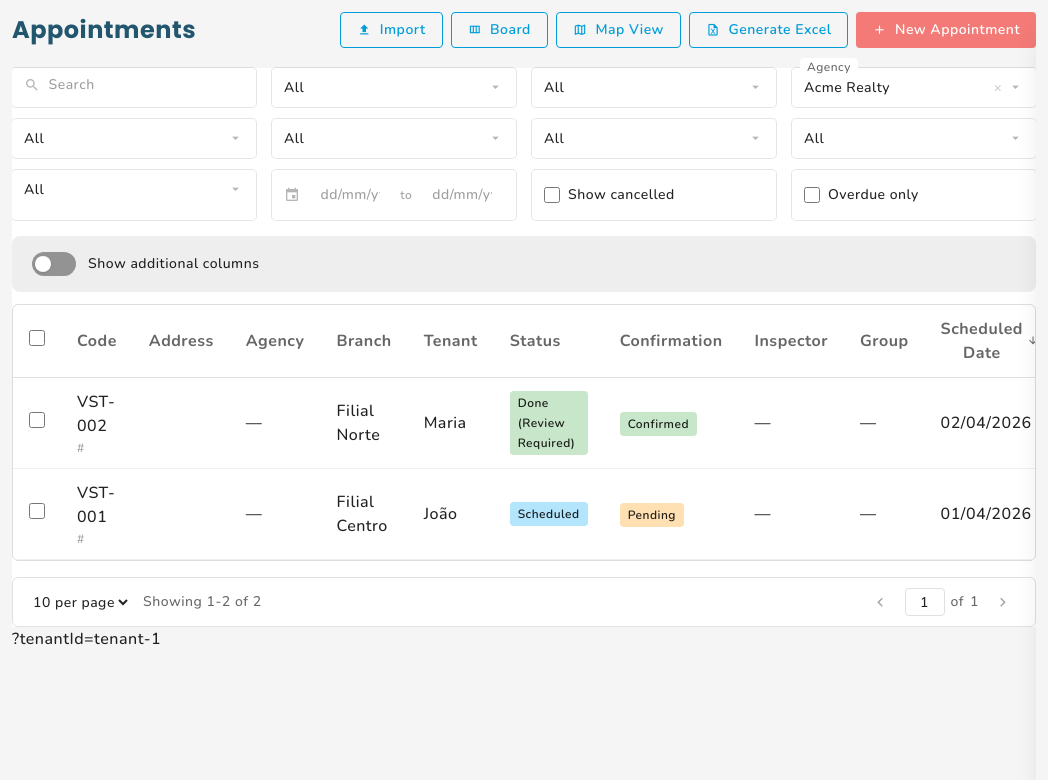
Scenario: AppointmentListPage › agency and inspector scoping › loads the selected agency branches instead of deriving them from the rows
The width and height of the screenshot is (1048, 780).
Click the button with aria-label "Branch" at point(134, 138), box 12,119 -> 256,158
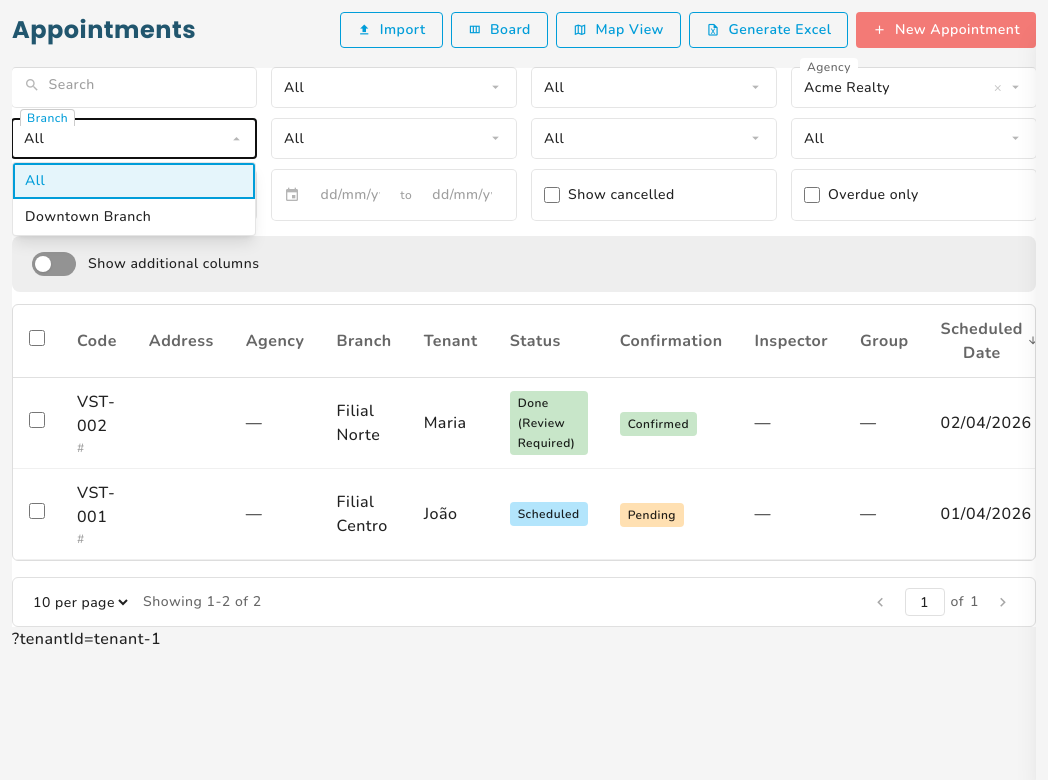
Now the option "Downtown Branch" is shown, box 25,207 -> 151,226
